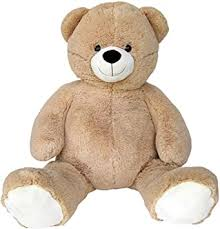teddy: (1, 1, 217, 225)
